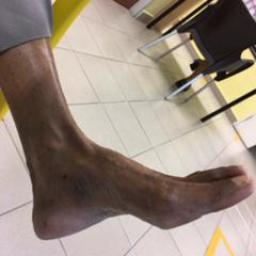Medial View -Left Foot-: (12, 104, 255, 255)
